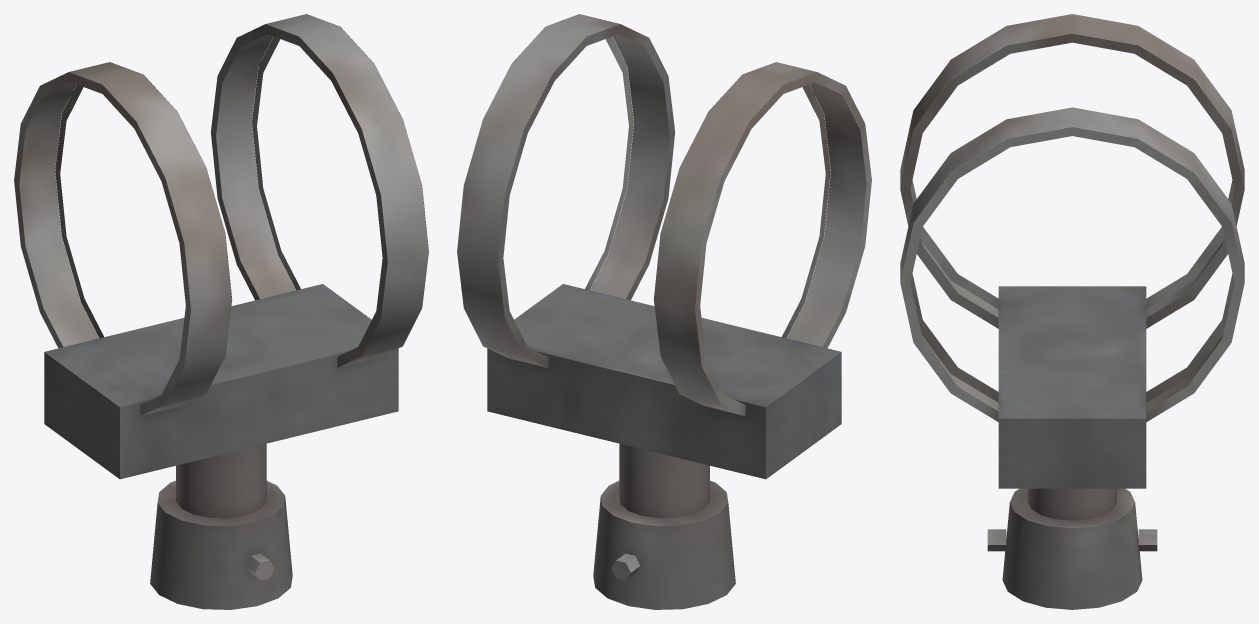
Rendered from mastMount0-v1-galvanised.glb.
3 views of the same model, side by side, from view 1: azimuth 30°, elevation 25°; view 2: azimuth 150°, elevation 25°; view 3: azimuth 270°, elevation 25° (orthographic). The views are drawn at different scales.
Parts seen in each view (by area): view 1: mastMount0-v1-galvanised; view 2: mastMount0-v1-galvanised; view 3: mastMount0-v1-galvanised.
Part boxes in pixels (box(x1,y1,x2,y2)): mastMount0-v1-galvanised: box(14, 14, 428, 609); mastMount0-v1-galvanised: box(457, 14, 871, 609); mastMount0-v1-galvanised: box(900, 14, 1244, 609).
Bounding box in the file's own units: 0.17 × 0.3055 × 0.187.
1 material, 1 textured.
